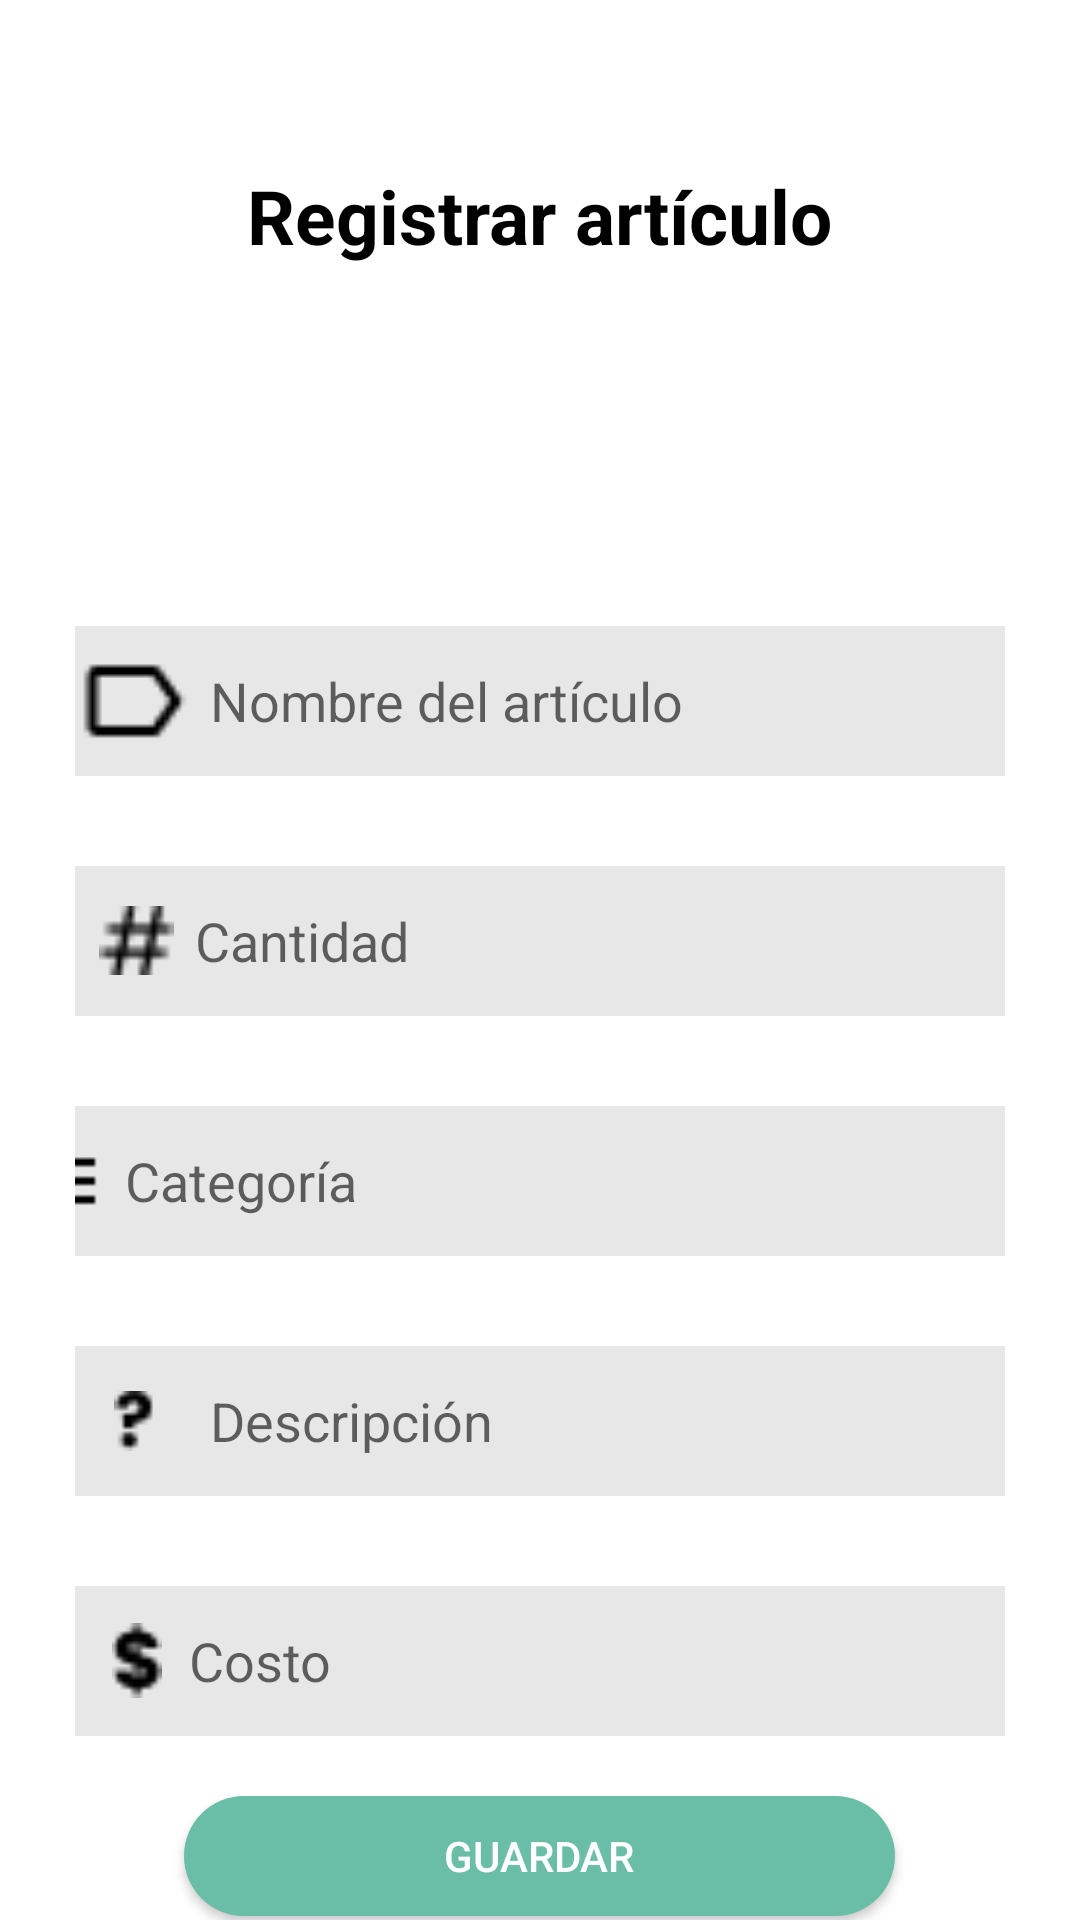

Named icons in this screenshot (1080x1920) and their bounding boxes, (x1, y1, x2, y2):
gato: (99, 906, 174, 975)
label: (84, 664, 185, 738)
pesos: (112, 1623, 162, 1698)
signo: (114, 1391, 153, 1451)
